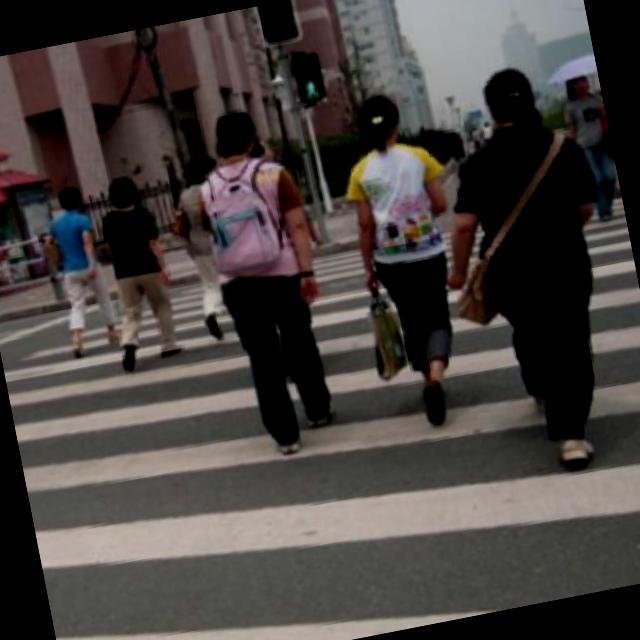Person: (407, 54, 627, 492), (185, 97, 346, 466), (329, 78, 486, 430), (86, 165, 192, 384), (32, 172, 120, 366), (556, 63, 625, 229)
